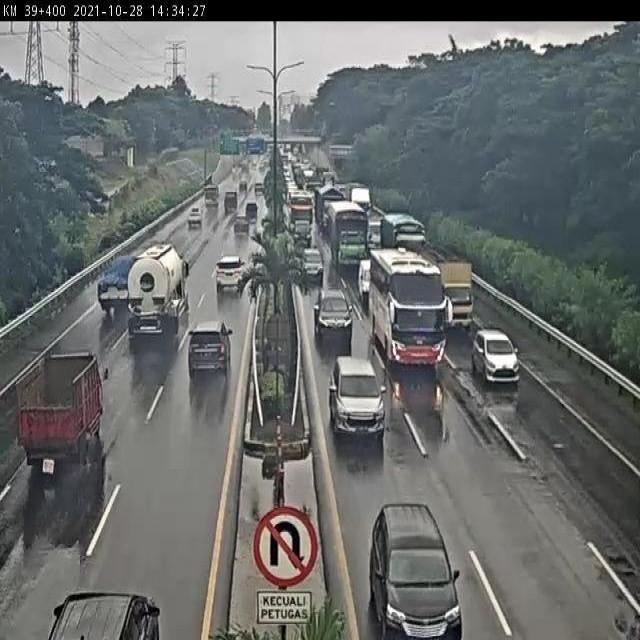big bus: (370, 252, 448, 368)
big truck: (126, 245, 192, 343), (99, 251, 145, 316), (327, 199, 369, 269), (440, 255, 476, 329), (378, 208, 425, 248)
car: (370, 501, 457, 635), (329, 353, 387, 439), (469, 326, 522, 386), (312, 283, 355, 344), (189, 319, 233, 376), (213, 253, 247, 296), (300, 245, 326, 280), (357, 256, 374, 293), (230, 212, 251, 239), (187, 207, 204, 232)
small truck: (14, 354, 104, 466)
